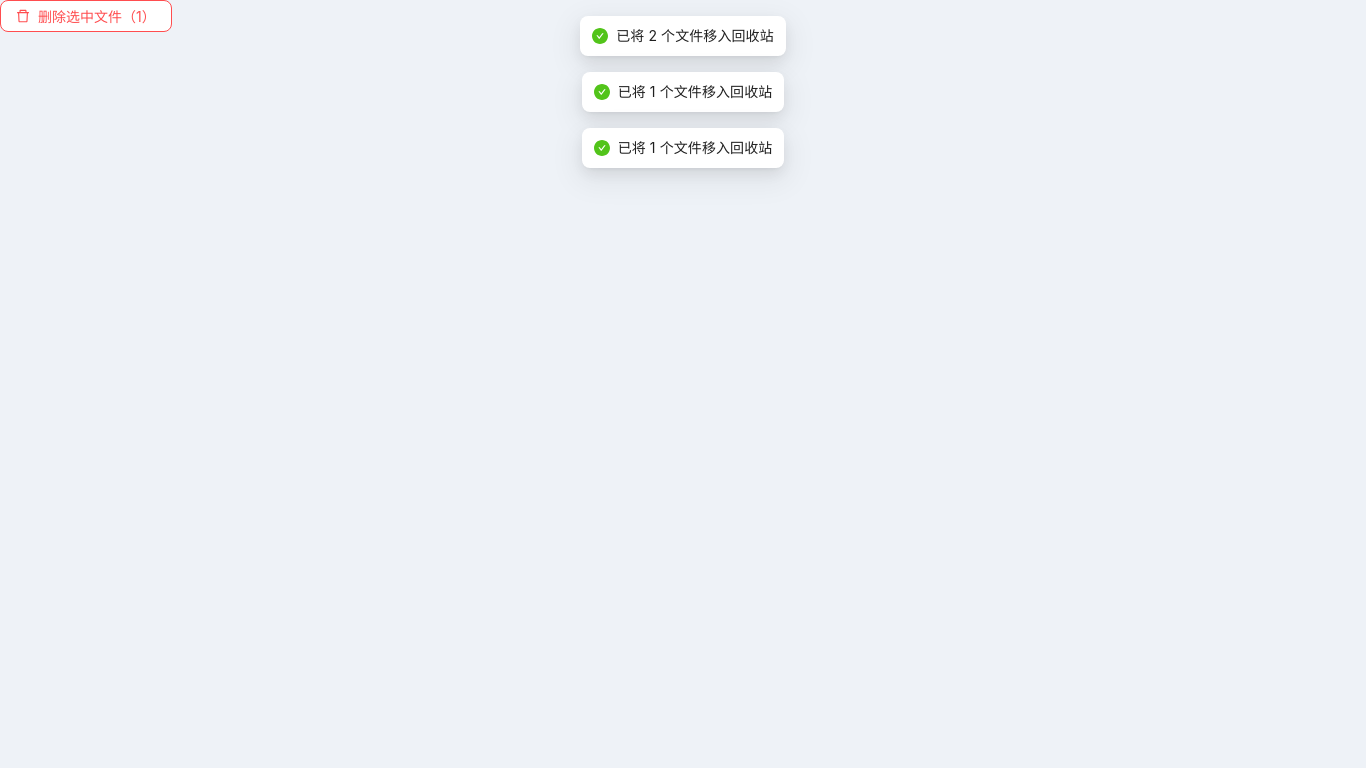
Test case: Direct file deletion › retains protected files and shows their actual blocking reason
The width and height of the screenshot is (1366, 768).
Click the button "删除选中文件（1）". click: (86, 16)
box: [0, 0, 172, 32]
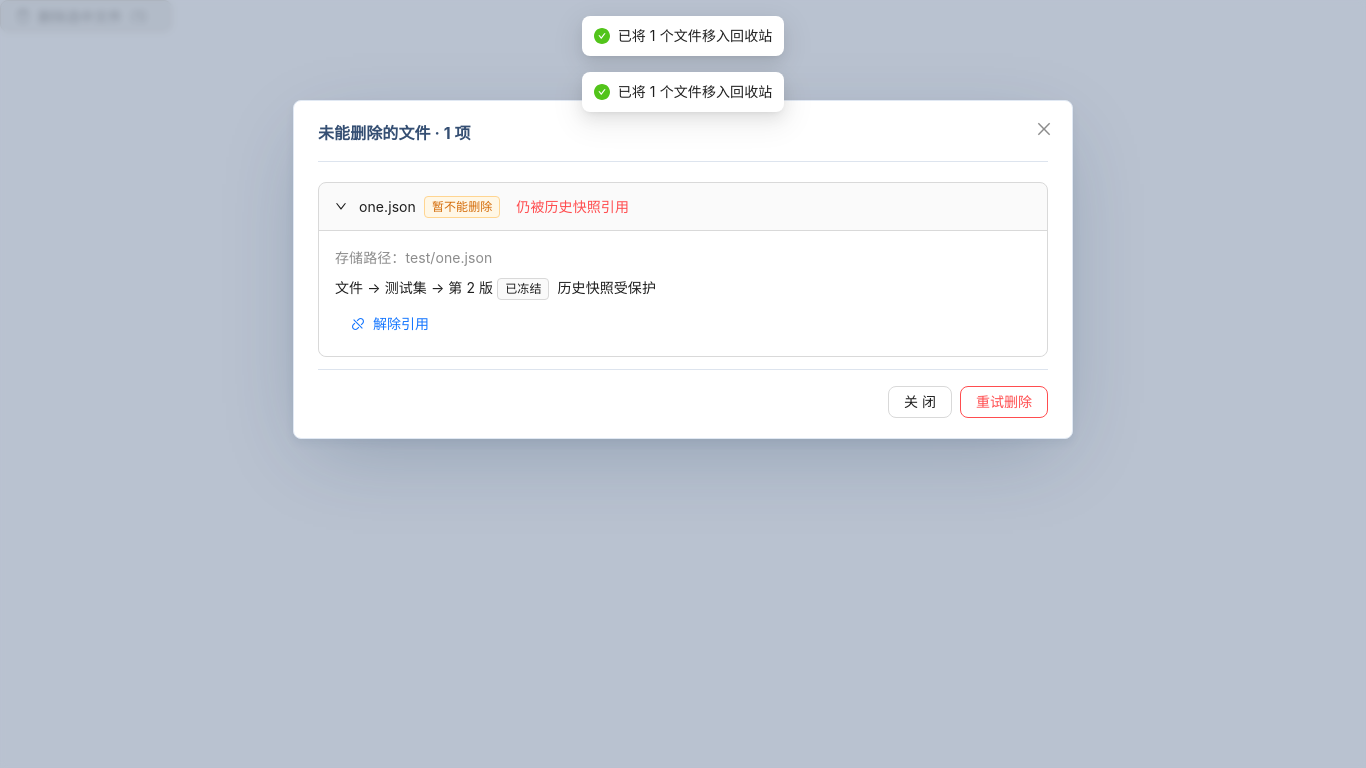
Expected: the text "仍被历史快照引用" is shown, [516, 198, 629, 214]
Expected: the dialog "未能删除的文件 · 1 项" is shown, [293, 100, 1073, 463]
